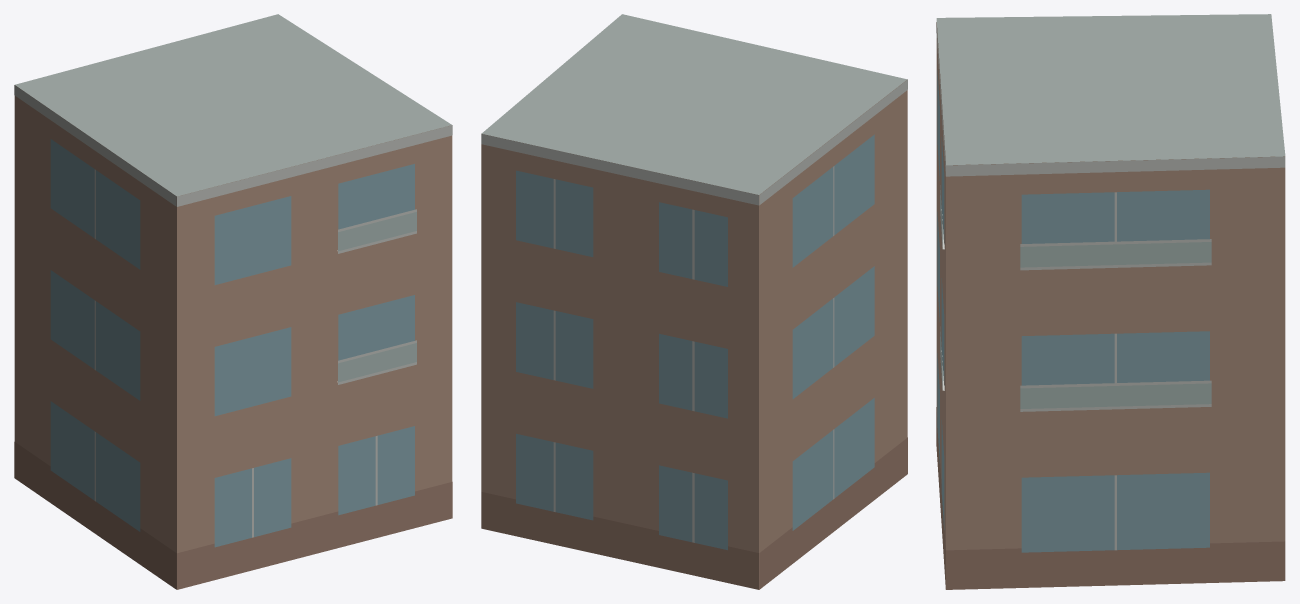
Rendered from survey-upis-32476540.glb.
3 views of the same model, side by side, from view 1: azimuth 30°, elevation 25°; view 2: azimuth 150°, elevation 25°; view 3: azimuth 270°, elevation 25° (orthographic). The views are drawn at different scales.
Parts seen in each view (by area): view 1: survey-upis-32476540.tmp; view 2: survey-upis-32476540.tmp; view 3: survey-upis-32476540.tmp.
Boxes of the visible parts, bbox=[...] form: survey-upis-32476540.tmp: bbox=[14, 14, 452, 589]; survey-upis-32476540.tmp: bbox=[481, 14, 907, 589]; survey-upis-32476540.tmp: bbox=[936, 14, 1285, 589].
Bounding box in the file's own units: 7 × 9.15 × 6.83.
